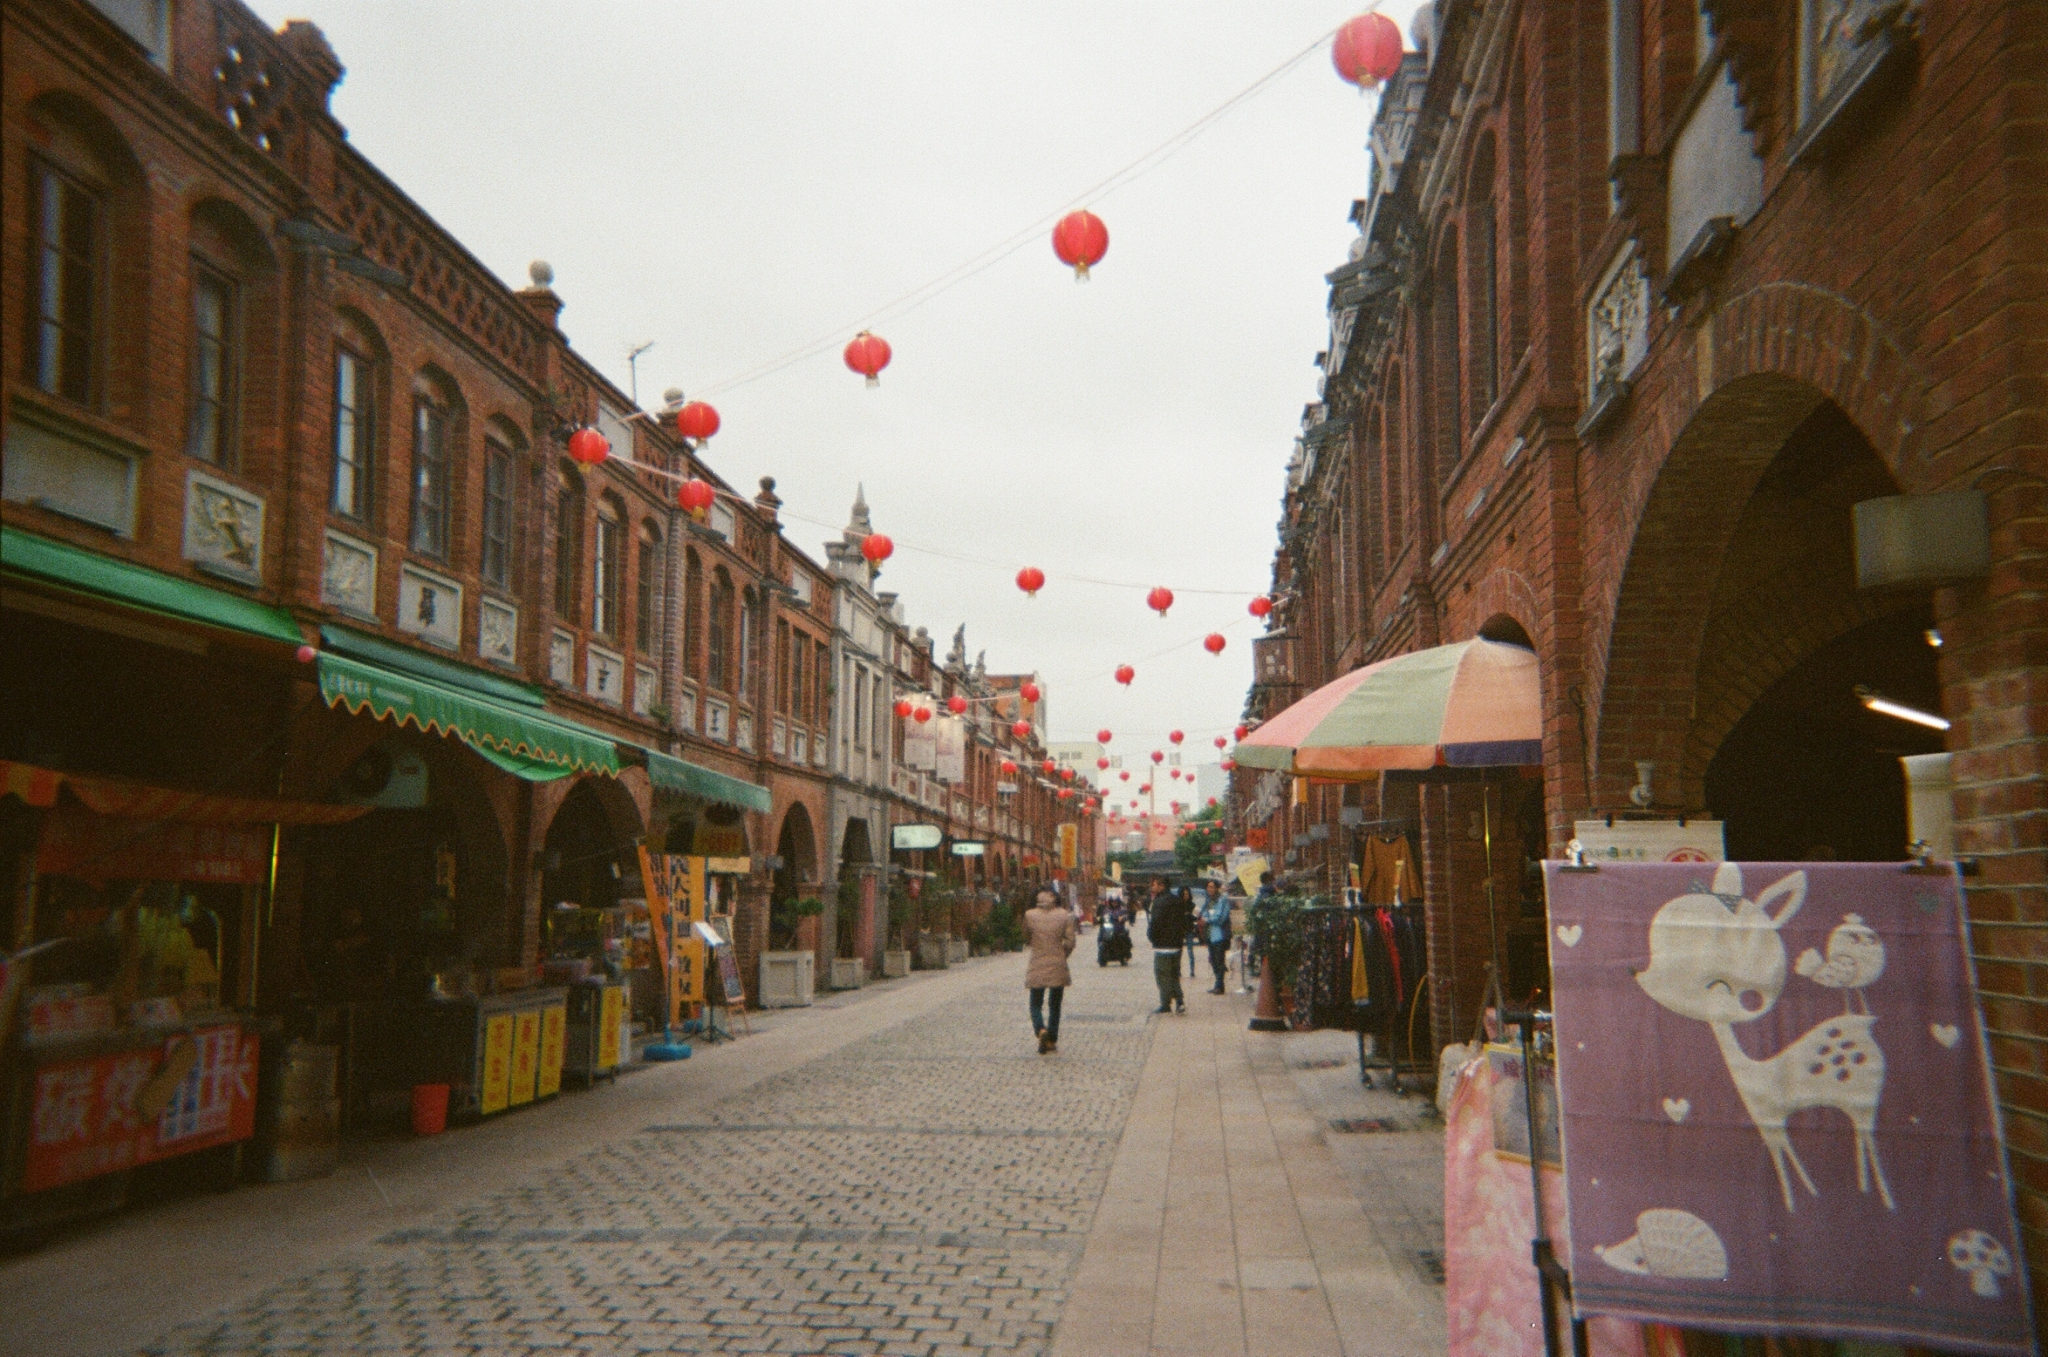people: (1019, 885, 1078, 1053), (1149, 870, 1193, 1018), (1207, 876, 1240, 991), (1096, 882, 1134, 965)
